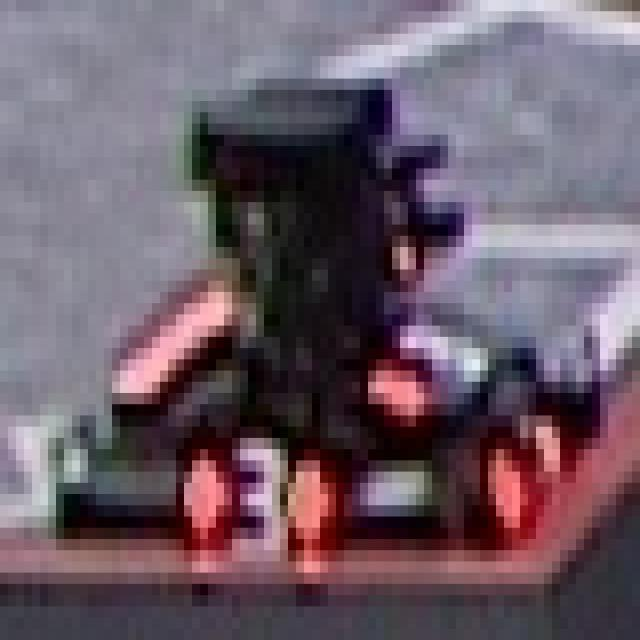R3: (176, 416, 328, 572), (360, 303, 504, 427)
